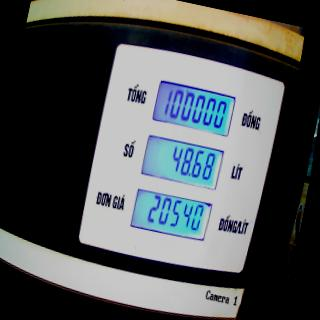screen: (125, 73, 238, 247)
